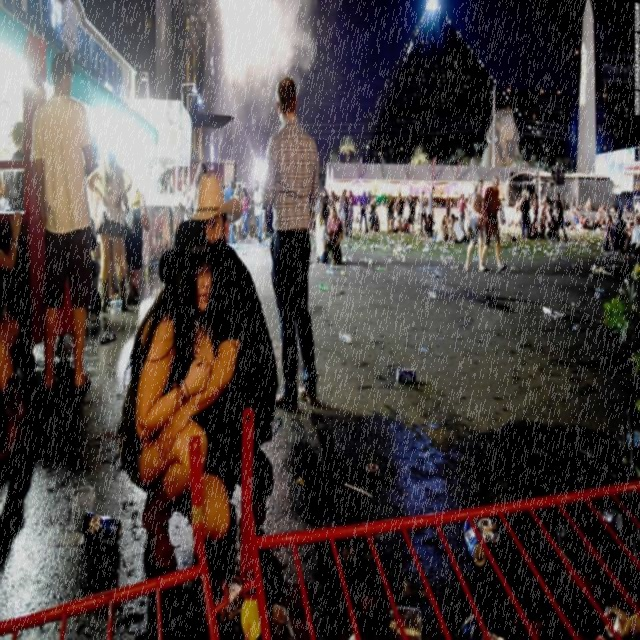pessoa: (156, 176, 279, 528), (114, 217, 232, 575), (29, 49, 100, 402), (257, 72, 322, 418), (0, 104, 32, 469), (86, 150, 132, 314), (122, 186, 151, 294), (570, 191, 640, 231), (480, 174, 507, 276), (480, 106, 520, 168), (464, 177, 488, 273), (158, 168, 188, 210), (324, 204, 344, 266), (88, 206, 99, 310), (314, 202, 331, 264), (188, 161, 208, 213), (306, 187, 324, 239), (222, 180, 236, 244), (554, 189, 569, 245), (612, 208, 630, 252), (252, 178, 264, 243), (239, 185, 252, 241), (497, 197, 519, 230), (232, 180, 243, 243), (260, 197, 275, 241), (520, 188, 532, 241), (450, 213, 468, 245), (602, 212, 616, 252), (358, 190, 370, 234), (337, 187, 347, 239), (321, 187, 332, 231), (457, 192, 468, 233), (419, 190, 429, 235), (546, 206, 558, 242), (384, 192, 394, 235), (630, 216, 640, 259), (347, 189, 355, 241), (530, 191, 539, 236), (342, 188, 350, 238), (407, 196, 417, 236), (427, 185, 435, 234), (396, 188, 404, 234), (440, 214, 453, 242), (370, 196, 380, 232), (120, 181, 131, 213), (248, 190, 254, 238), (424, 211, 434, 239), (366, 208, 376, 232), (445, 196, 451, 227), (540, 204, 548, 227), (220, 180, 230, 197), (400, 218, 410, 234), (328, 190, 336, 208), (416, 197, 421, 224), (392, 194, 395, 234), (452, 214, 460, 224)
